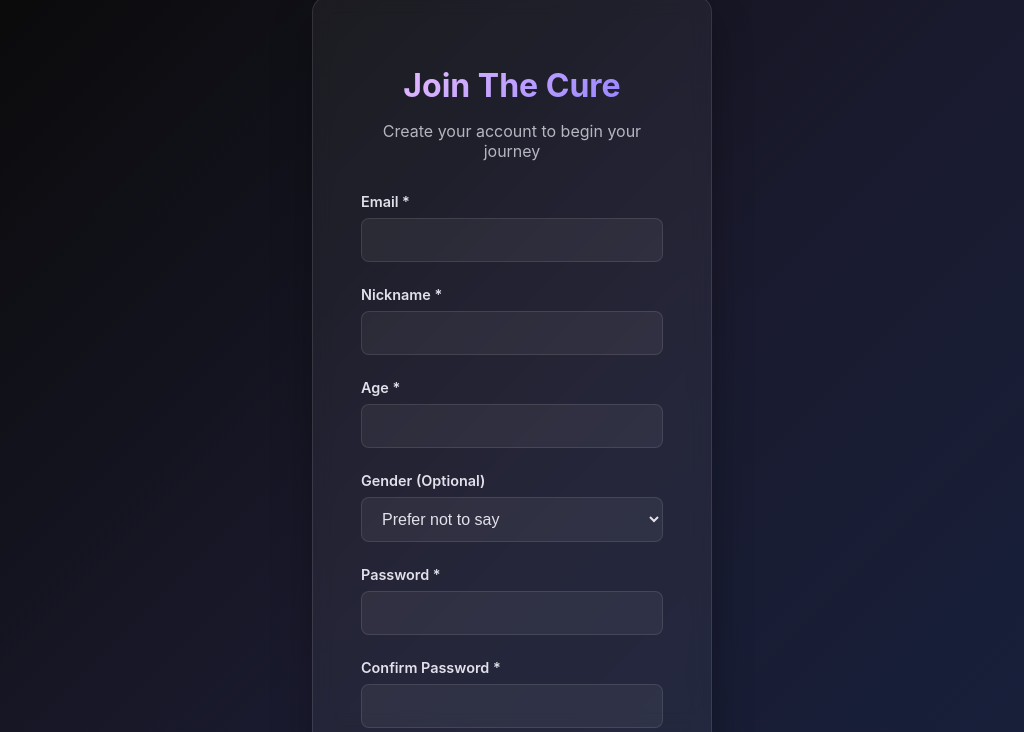
Test case: RegisterPage › validates password confirmation matches
Type "test@example.com" into the field labelled "Email *" at (512, 240), box left=361, top=218, right=663, bottom=262
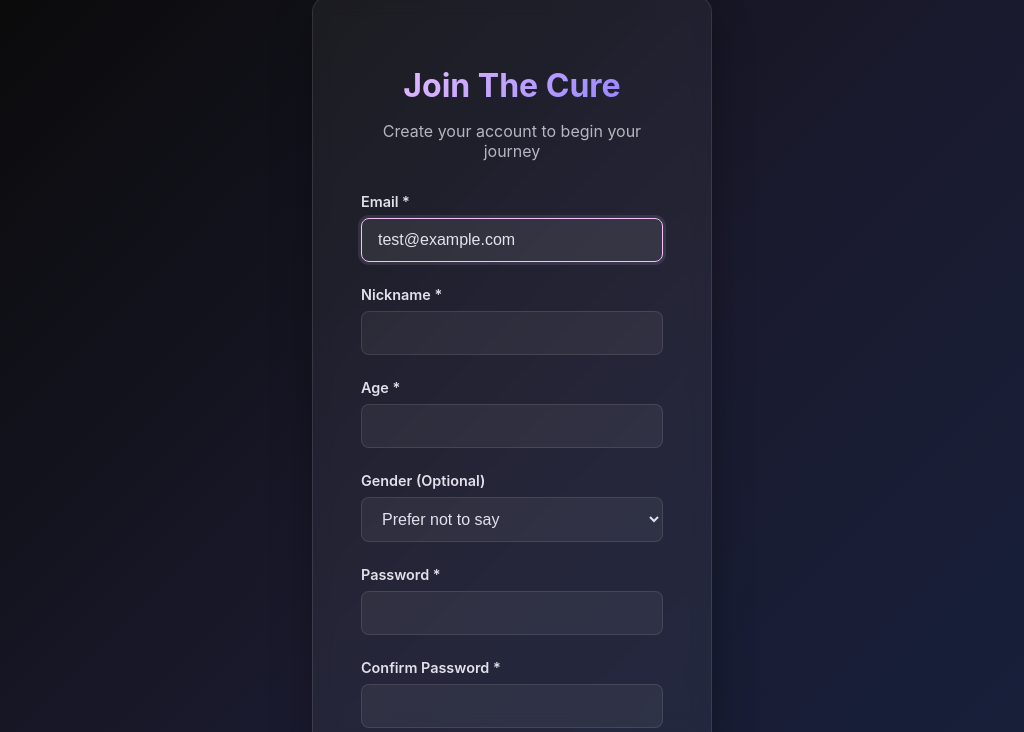
Type "25" into the number field labelled "Age *" at (512, 426), box left=361, top=404, right=663, bottom=448
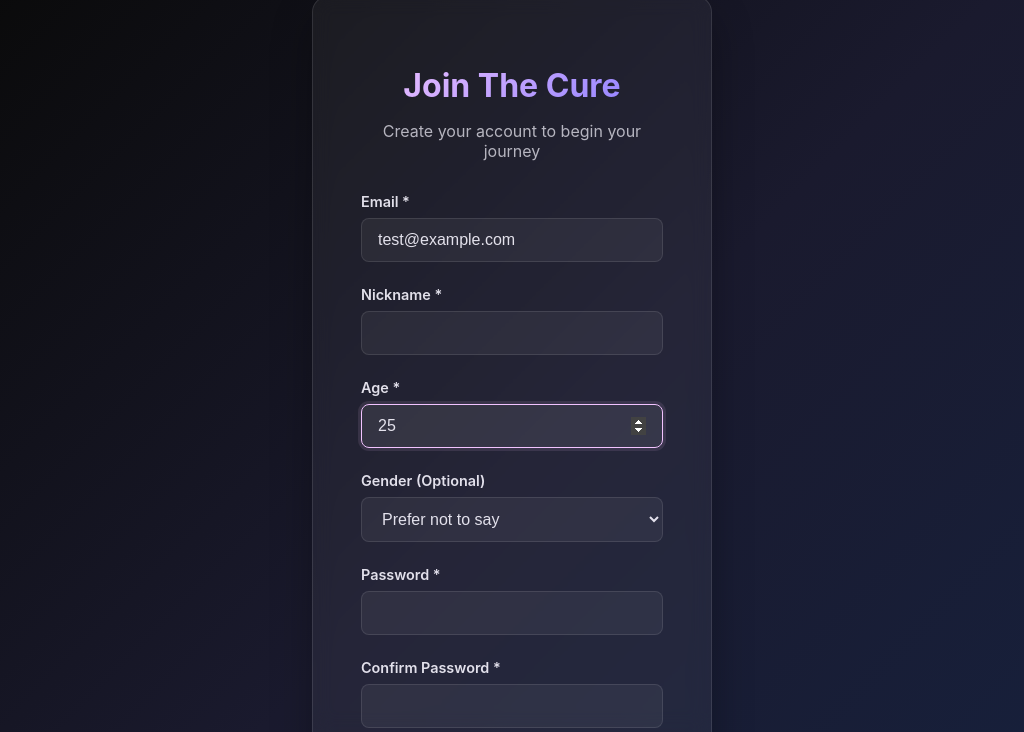
Type "password123" into the password field labelled "Password *" at (512, 613), box left=361, top=591, right=663, bottom=635
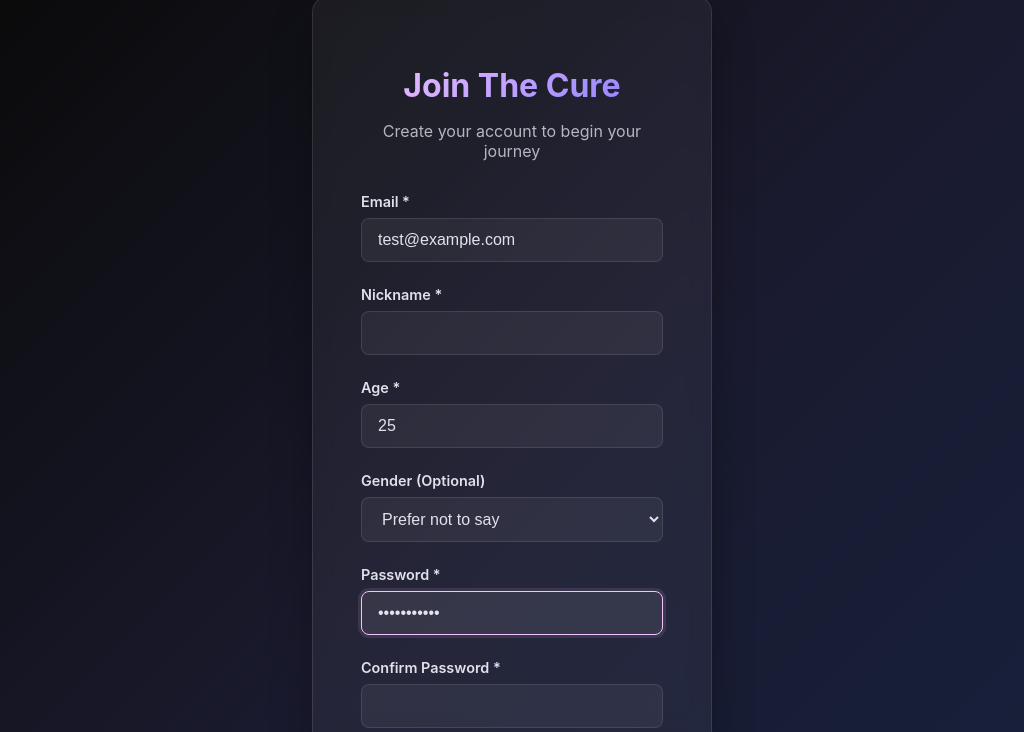
Type "password456" into the password field labelled "Confirm Password *" at (512, 706), box left=361, top=684, right=663, bottom=728
(page scrolled)
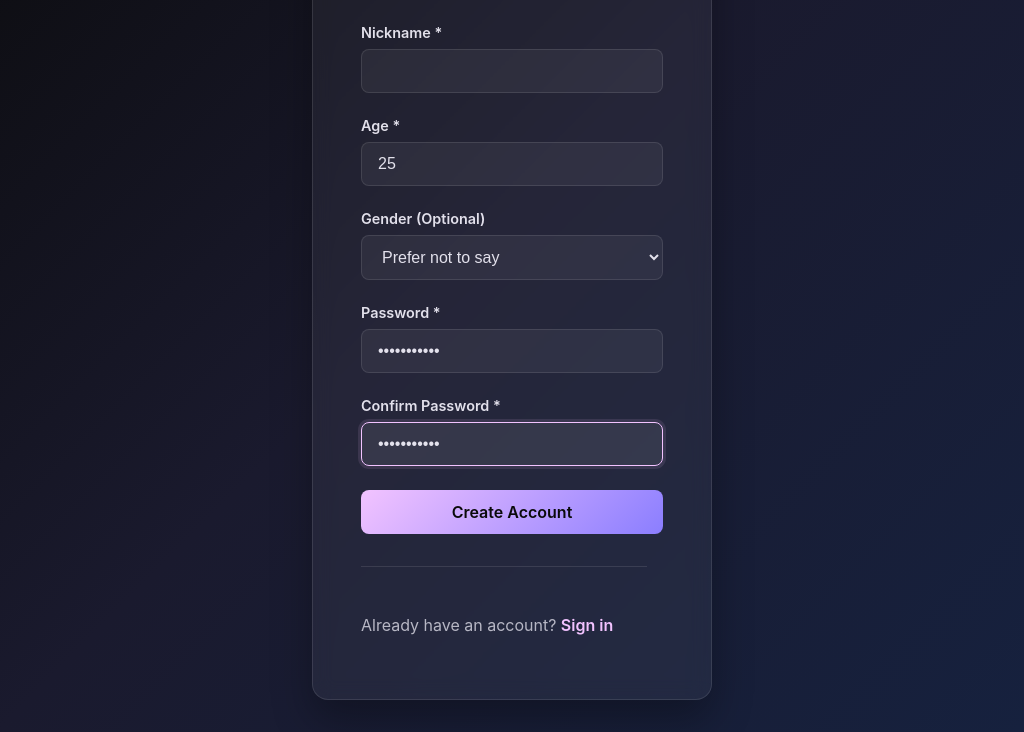
Click the button "Create Account" at (512, 512), box left=361, top=490, right=663, bottom=534
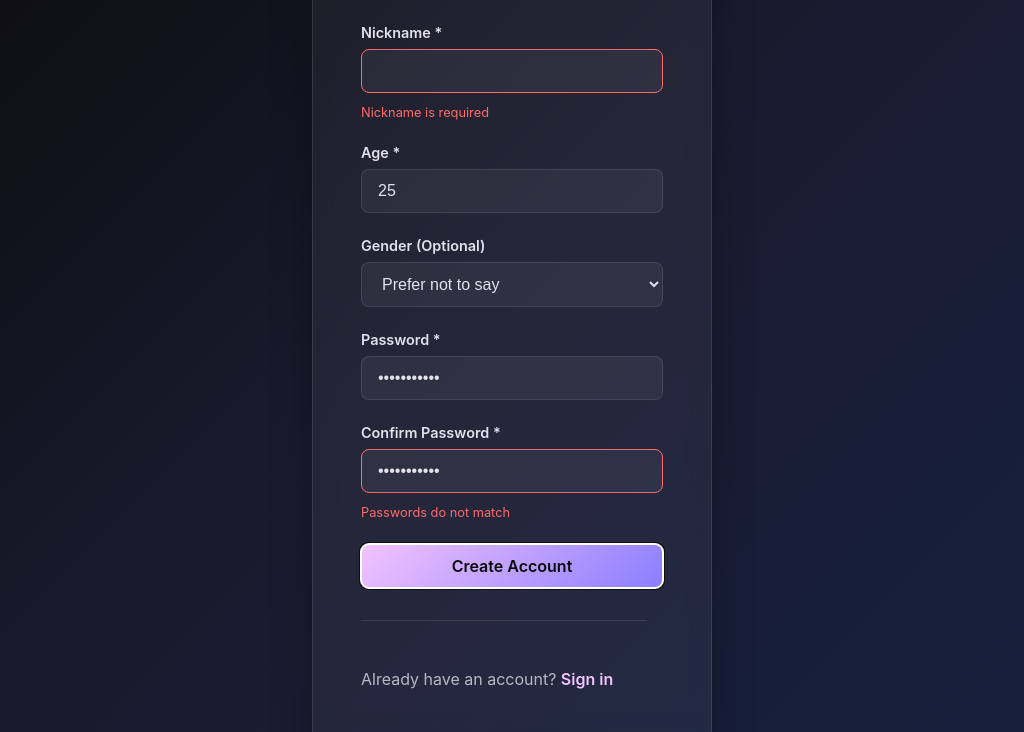
expect the text "Passwords do not match" is shown: met, box left=361, top=505, right=510, bottom=520
